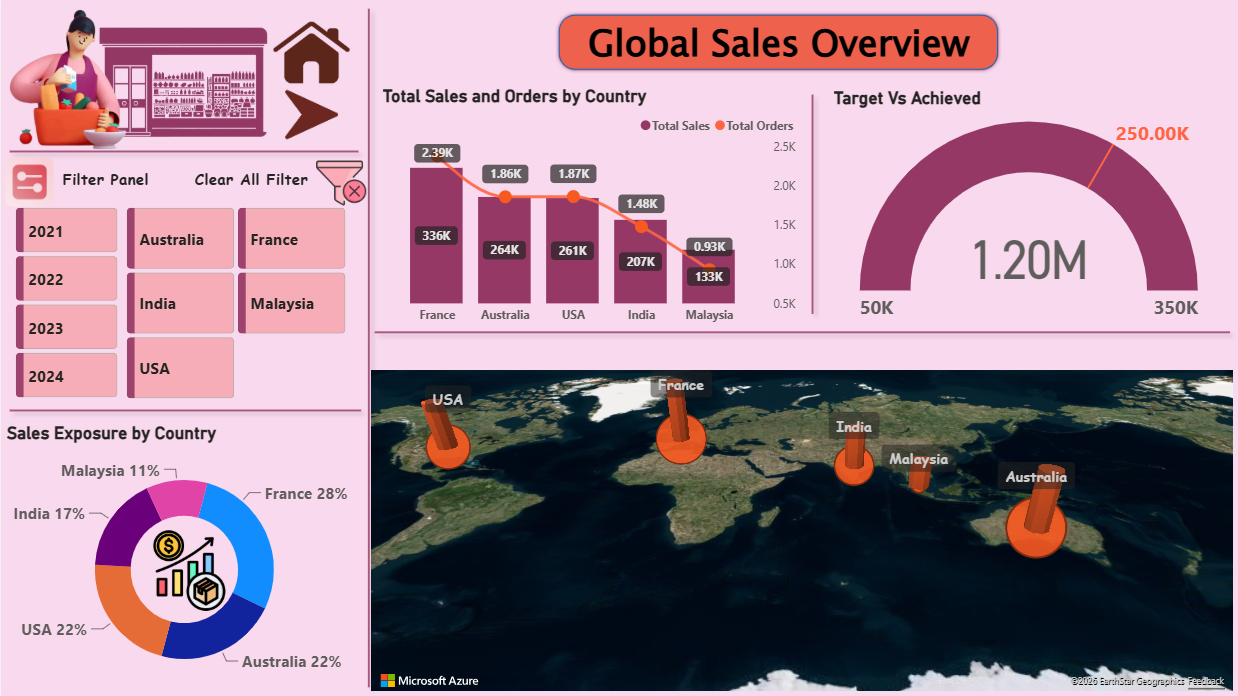

Layout of this report page (visuals, bound fields, positions):
{"tool":"powerbi","page":{"name":"Country Wise Sales","canvas":[1280,720],"ordinal":1},"visuals":[{"type":"azureMap","fields":{"Category":["Grocery Shop.Country"],"Size":["Grocery Shop.Total Sales"]},"box":[378.7,360,901.4,360],"z":1000},{"type":"shape","box":[368.6,0,24.5,720],"z":3000},{"type":"shape","box":[0,136.8,378.7,40.3],"z":4000},{"type":"image","box":[0,159.4,59,57.6],"z":5000},{"type":"image","box":[325.4,161.3,51.8,56.2],"z":6000},{"type":"textbox","box":[59,168.5,105.1,41.8],"z":7000},{"type":"textbox","box":[195.8,168.5,129.6,41.8],"z":8000},{"type":"shape","box":[0,404.6,381.6,40.3],"z":9000},{"type":"shape","box":[377.3,328.3,902.9,31.7],"z":10000},{"type":"advancedSlicerVisual","fields":{"Values":["Grocery Shop.Shop Opening Year"]},"box":[10.1,210.2,115.2,208.8],"z":11000},{"type":"advancedSlicerVisual","fields":{"Values":["Grocery Shop.Country"]},"box":[125.3,210.2,236.2,207.4],"z":12000},{"type":"shape","box":[573.1,11.5,462.2,64.8],"z":13000},{"type":"textbox","box":[593.3,10.1,421.9,64.8],"z":14000},{"type":"image","box":[263.5,7.2,115.2,86.4],"z":15000},{"type":"image","box":[293.8,90.7,54.7,54.7],"z":16000},{"type":"lineClusteredColumnComboChart","title":"Total Sales and Orders by Country","fields":{"Category":["Grocery Shop.Country"],"Y":["Grocery Shop.Total Sales"],"Y2":["Grocery Shop.Total Orders"]},"box":[390.2,89.3,439.2,254.9],"z":17000},{"type":"gauge","title":"Target Vs Achieved","fields":{"Y":["Grocery Shop.Total Sales"]},"box":[856.8,90.7,413.3,250.6],"z":18000},{"type":"shape","box":[826.6,89.3,25.9,244.8],"z":19000},{"type":"image","box":[145.4,547.2,97.9,86.4],"z":20000},{"type":"donutChart","title":"Sales Exposure by Country","fields":{"Category":["Grocery Shop.Country"],"Y":["Grocery Shop.Total Sales"]},"box":[1.4,437.8,377.3,282.2],"z":21000},{"type":"image","box":[64.8,18.7,226.1,132.5],"z":21001},{"type":"image","box":[0,7.2,145.4,149.8],"z":21002}]}

Visuals, with their boxes in screenshot pixels (x1, y1, x2, y2), scaled from the page's 1280x720 canvas onto the 1238x696 screenshot:
azureMap - Grocery Shop.Country x Grocery Shop.Total Sales: {"x1": 366, "y1": 348, "x2": 1237, "y2": 695}
shape: {"x1": 357, "y1": 0, "x2": 380, "y2": 695}
shape: {"x1": 0, "y1": 132, "x2": 366, "y2": 171}
image: {"x1": 0, "y1": 154, "x2": 57, "y2": 210}
image: {"x1": 315, "y1": 156, "x2": 365, "y2": 210}
textbox: {"x1": 57, "y1": 163, "x2": 159, "y2": 203}
textbox: {"x1": 189, "y1": 163, "x2": 315, "y2": 203}
shape: {"x1": 0, "y1": 391, "x2": 369, "y2": 430}
shape: {"x1": 365, "y1": 317, "x2": 1237, "y2": 348}
advancedSlicerVisual - Grocery Shop.Shop Opening Year: {"x1": 10, "y1": 203, "x2": 121, "y2": 405}
advancedSlicerVisual - Grocery Shop.Country: {"x1": 121, "y1": 203, "x2": 350, "y2": 404}
shape: {"x1": 554, "y1": 11, "x2": 1001, "y2": 74}
textbox: {"x1": 574, "y1": 10, "x2": 982, "y2": 72}
image: {"x1": 255, "y1": 7, "x2": 366, "y2": 90}
image: {"x1": 284, "y1": 88, "x2": 337, "y2": 141}
"Total Sales and Orders by Country" lineClusteredColumnComboChart: {"x1": 377, "y1": 86, "x2": 802, "y2": 333}
"Target Vs Achieved" gauge: {"x1": 829, "y1": 88, "x2": 1228, "y2": 330}
shape: {"x1": 799, "y1": 86, "x2": 825, "y2": 323}
image: {"x1": 141, "y1": 529, "x2": 235, "y2": 612}
"Sales Exposure by Country" donutChart: {"x1": 1, "y1": 423, "x2": 366, "y2": 695}
image: {"x1": 63, "y1": 18, "x2": 281, "y2": 146}
image: {"x1": 0, "y1": 7, "x2": 141, "y2": 152}
